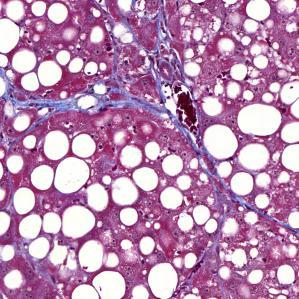fibrosis: (101, 48, 189, 116)
